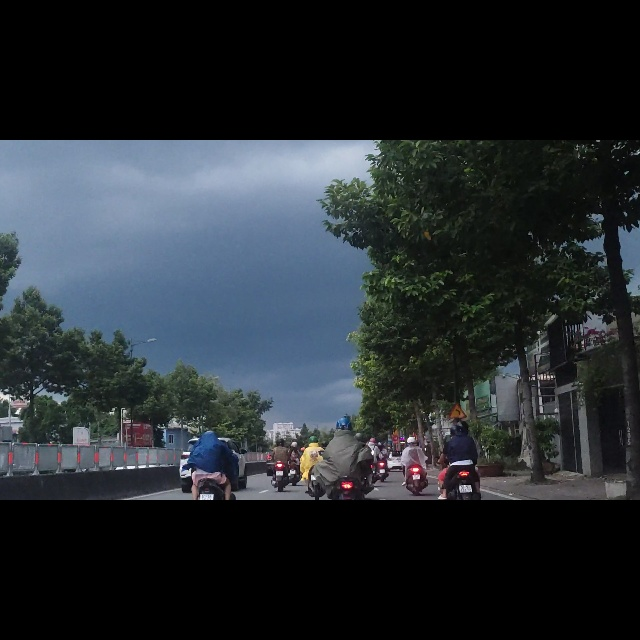bien_nguy_hiem: (448, 468, 468, 495)
